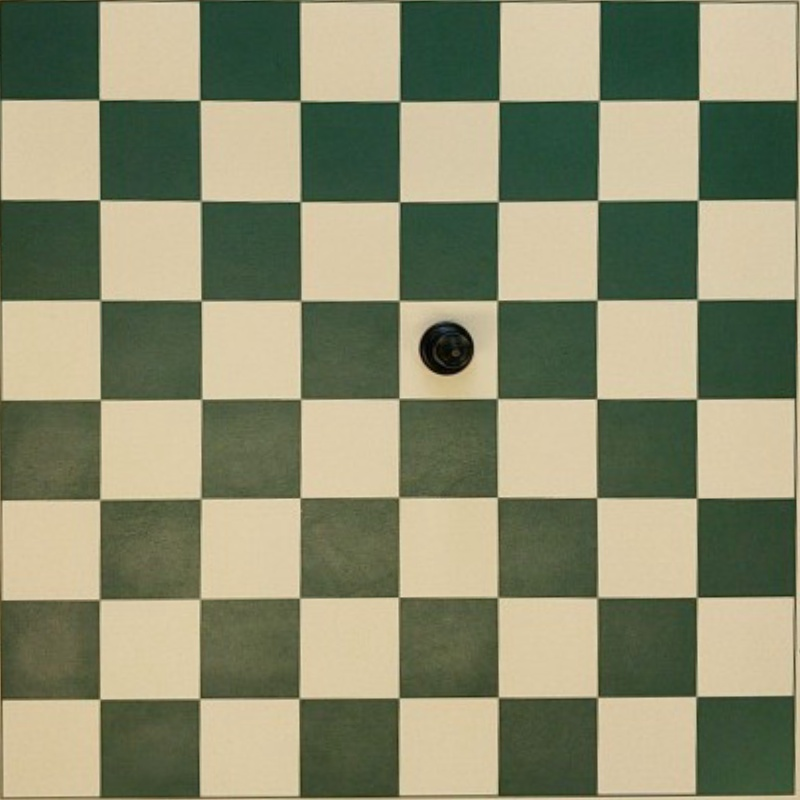black-bishop: (419, 321, 475, 375)
